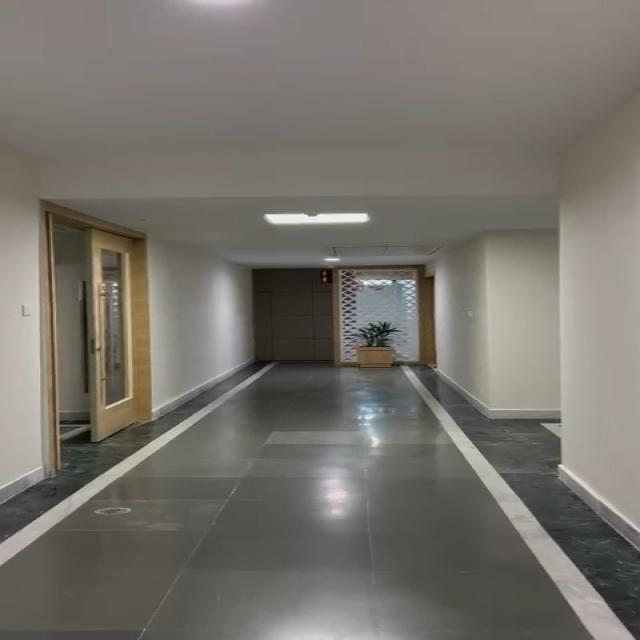door: (30, 192, 161, 460), (262, 264, 453, 382)
floor: (135, 404, 588, 612)
furniture: (342, 320, 402, 378)
wall: (443, 41, 640, 490)
